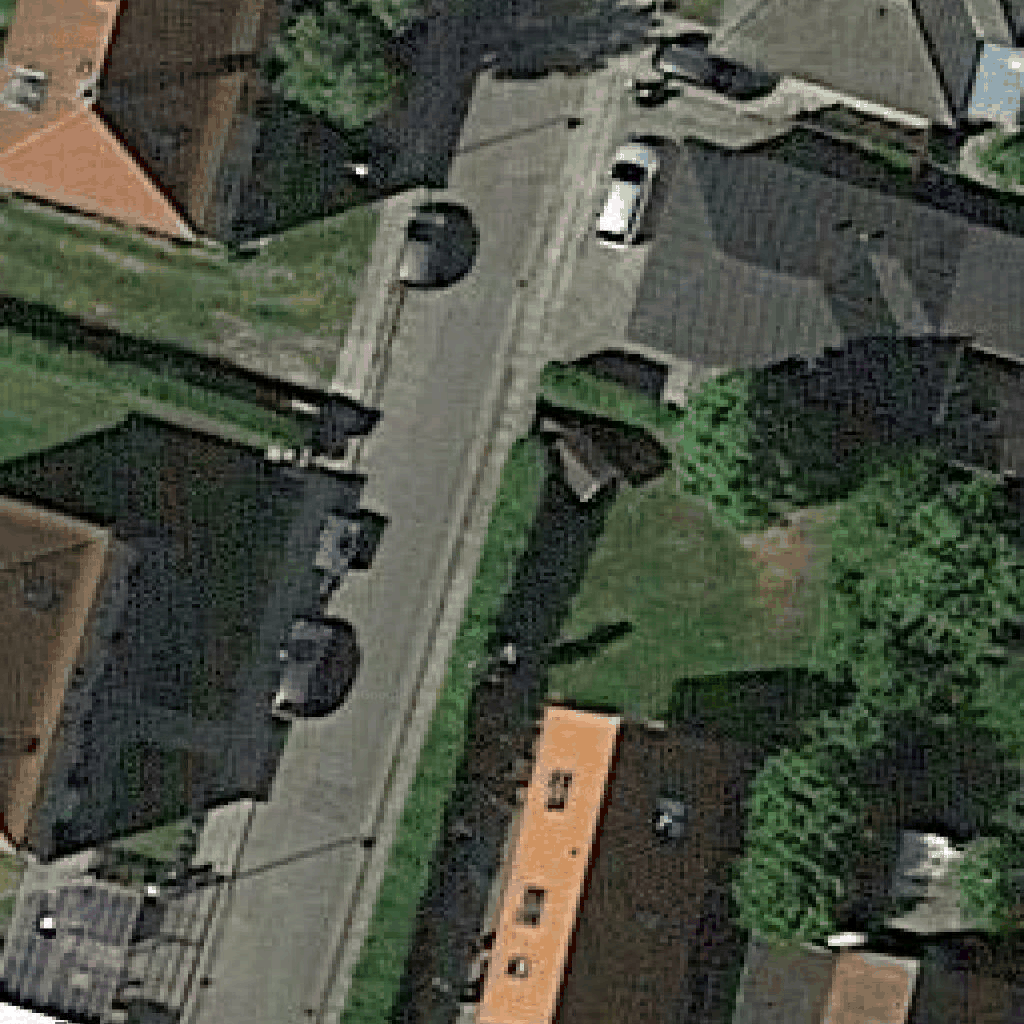car: (594, 143, 662, 248), (654, 35, 754, 99), (275, 616, 333, 720), (397, 206, 449, 285)
